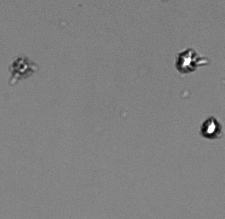Dead Cell: (12, 58, 30, 76)
Living Cell: (176, 49, 201, 73), (201, 117, 221, 139)
